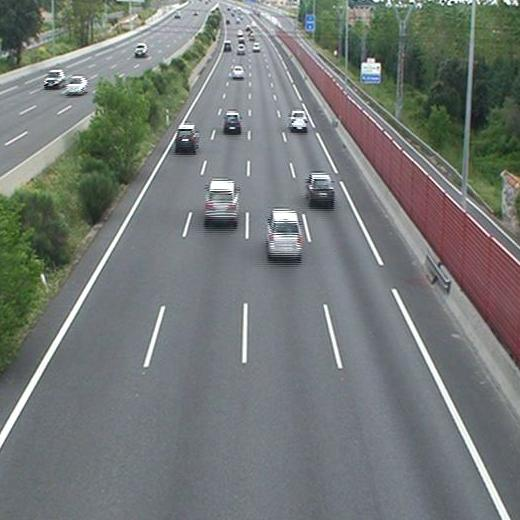car: (267, 211, 303, 257), (205, 180, 239, 221), (306, 174, 334, 201), (176, 125, 198, 149), (289, 111, 308, 129), (224, 112, 242, 130), (232, 66, 245, 77), (251, 42, 259, 52), (237, 45, 244, 55), (224, 41, 231, 50)
